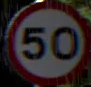Speed limit: (6, 1, 90, 82)
